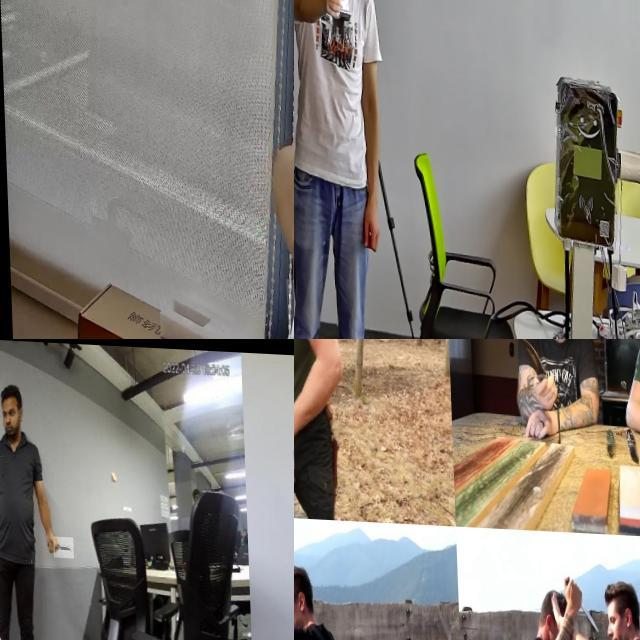-: (514, 339, 554, 401), (558, 568, 596, 630), (294, 415, 327, 467), (294, 551, 313, 613), (52, 535, 72, 557)
gun-knife-thesis - v11 Yolov5 augmented: (323, 0, 347, 30)
